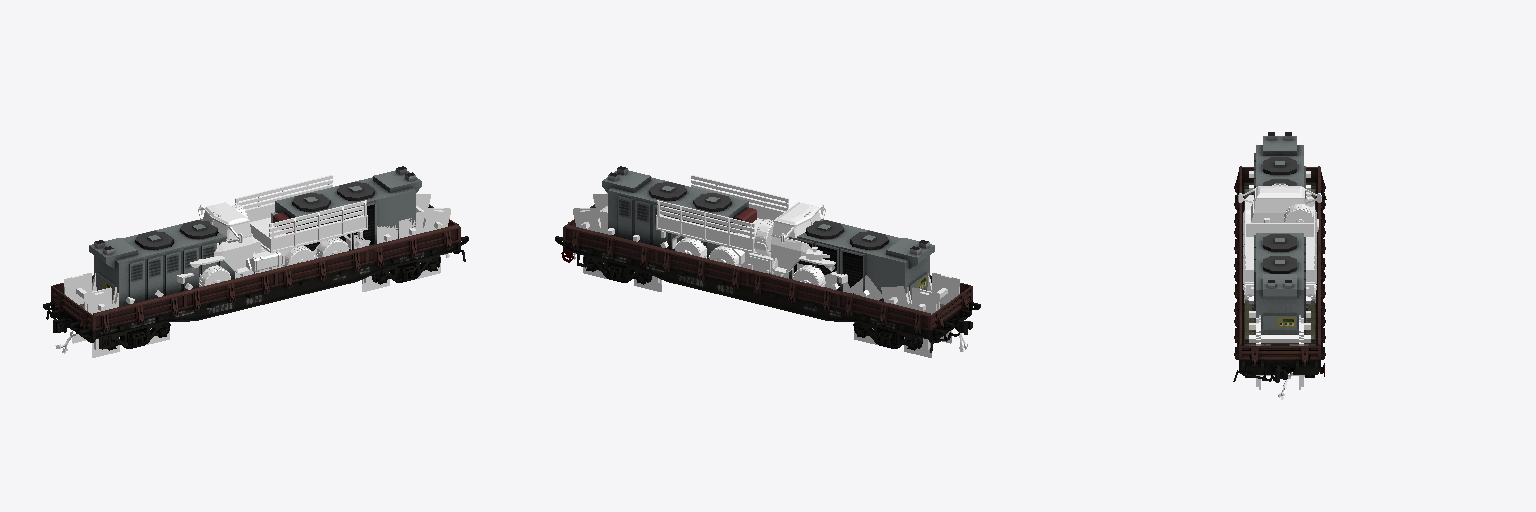
The picture shows the model from 3 angles: view 1: azimuth 30°, elevation 25°; view 2: azimuth 150°, elevation 25°; view 3: azimuth 270°, elevation 25°; orthographic projection.
Parts seen in each view (by area): view 1: CARGO_FILL_1, FRAME_boardcargoflat, CARGO_FILL_50, WIDGET_8_LABEL_^, WIDGET_5_LABEL_^, WIDGET_7_LABEL_^, WIDGET_6_LABEL_^, CARGO_FILL_100, BOGEY_REAR_boardcargoflat, BOGEY_FRONT_boardcargoflat; view 2: CARGO_FILL_1, FRAME_boardcargoflat, CARGO_FILL_50, WIDGET_4_LABEL_^, WIDGET_1_LABEL_^, WIDGET_3_LABEL_^, WIDGET_2_LABEL_^, CARGO_FILL_100, BOGEY_FRONT_boardcargoflat, BOGEY_REAR_boardcargoflat, CARGO_FILL_15; view 3: CARGO_FILL_1, CARGO_FILL_50, FRAME_boardcargoflat, CARGO_FILL_100.
Boxes of the visible parts, x1=… form: CARGO_FILL_1: x1=64, y1=175, x2=367, y2=314; FRAME_boardcargoflat: x1=43, y1=204, x2=468, y2=349; CARGO_FILL_50: x1=271, y1=166, x2=421, y2=258; WIDGET_8_LABEL_^: x1=93, y1=291, x2=185, y2=333; WIDGET_5_LABEL_^: x1=367, y1=225, x2=458, y2=266; WIDGET_7_LABEL_^: x1=184, y1=269, x2=276, y2=310; WIDGET_6_LABEL_^: x1=276, y1=247, x2=367, y2=288; CARGO_FILL_100: x1=377, y1=193, x2=450, y2=243; BOGEY_REAR_boardcargoflat: x1=372, y1=256, x2=440, y2=284; BOGEY_FRONT_boardcargoflat: x1=102, y1=322, x2=170, y2=350; CARGO_FILL_1: x1=656, y1=175, x2=959, y2=314; FRAME_boardcargoflat: x1=555, y1=204, x2=980, y2=342; CARGO_FILL_50: x1=602, y1=166, x2=756, y2=258; WIDGET_4_LABEL_^: x1=838, y1=291, x2=930, y2=333; WIDGET_1_LABEL_^: x1=565, y1=225, x2=656, y2=266; WIDGET_3_LABEL_^: x1=747, y1=269, x2=839, y2=310; WIDGET_2_LABEL_^: x1=656, y1=247, x2=747, y2=288; CARGO_FILL_100: x1=573, y1=193, x2=639, y2=241; BOGEY_FRONT_boardcargoflat: x1=853, y1=322, x2=922, y2=350; BOGEY_REAR_boardcargoflat: x1=583, y1=256, x2=651, y2=284; CARGO_FILL_15: x1=824, y1=271, x2=882, y2=300; CARGO_FILL_1: x1=1238, y1=132, x2=1321, y2=302; CARGO_FILL_50: x1=1245, y1=233, x2=1314, y2=343; FRAME_boardcargoflat: x1=1235, y1=167, x2=1324, y2=382; CARGO_FILL_100: x1=1249, y1=311, x2=1310, y2=345.
Size of the model in its own units: 16.88 by 4.18 by 3.37.
Materials: 7 (3 with a texture image).